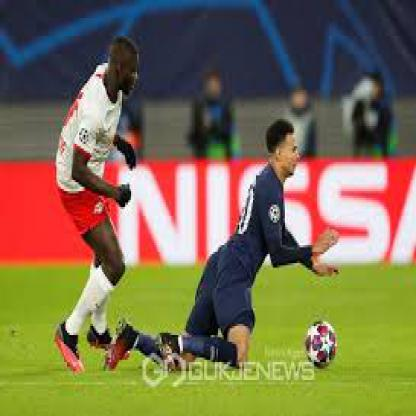Fall_Down: (100, 117, 349, 377)
